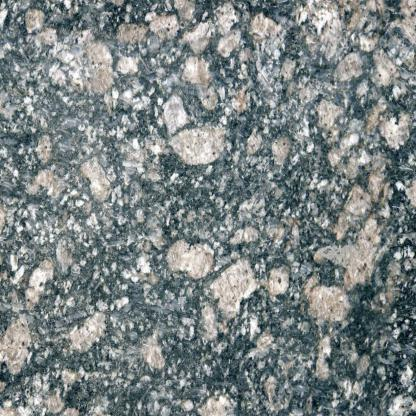Igneous_Granite: (3, 3, 416, 415)
